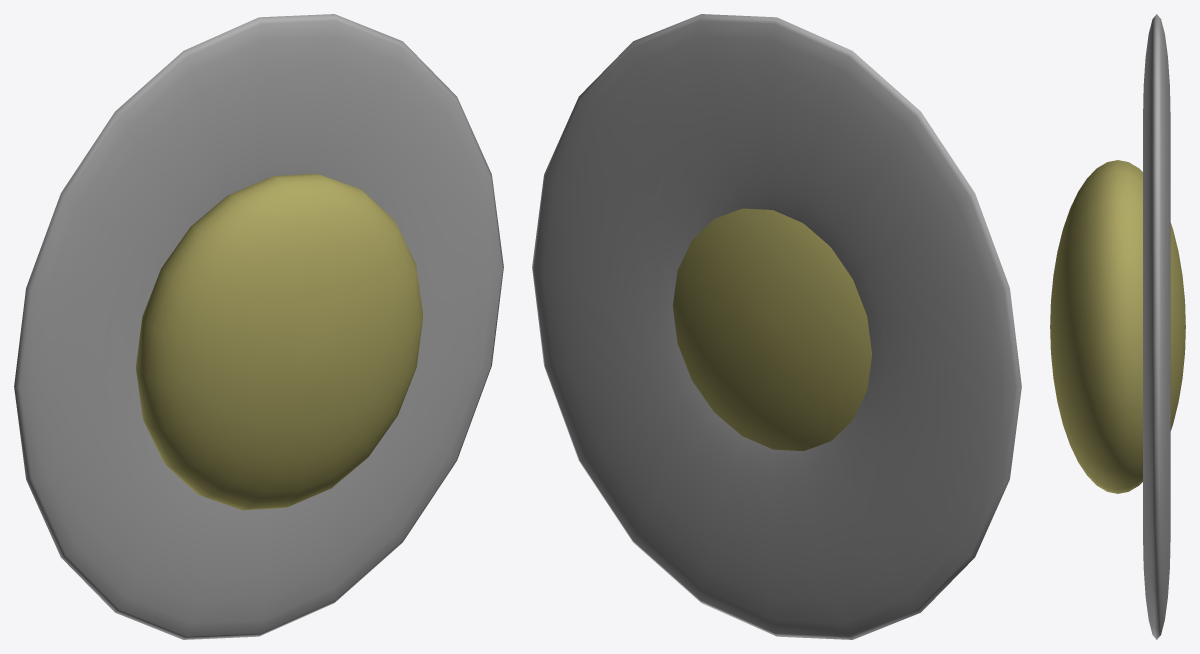
Rendered from boton5 1.fbx.
3 renders of one model, left to right at view 1: azimuth 30°, elevation 25°; view 2: azimuth 150°, elevation 25°; view 3: azimuth 270°, elevation 25°, orthographic. The views are drawn at different scales.
Visible parts, largest first — view 1: polySurface128; view 2: polySurface128; view 3: polySurface128.
Part boxes in pixels (<box>): polySurface128: <box>14,14,503,639</box>; polySurface128: <box>532,14,1021,639</box>; polySurface128: <box>1050,14,1185,639</box>.
Size of the model in its own units: 6.99 by 8.45 by 1.78.
